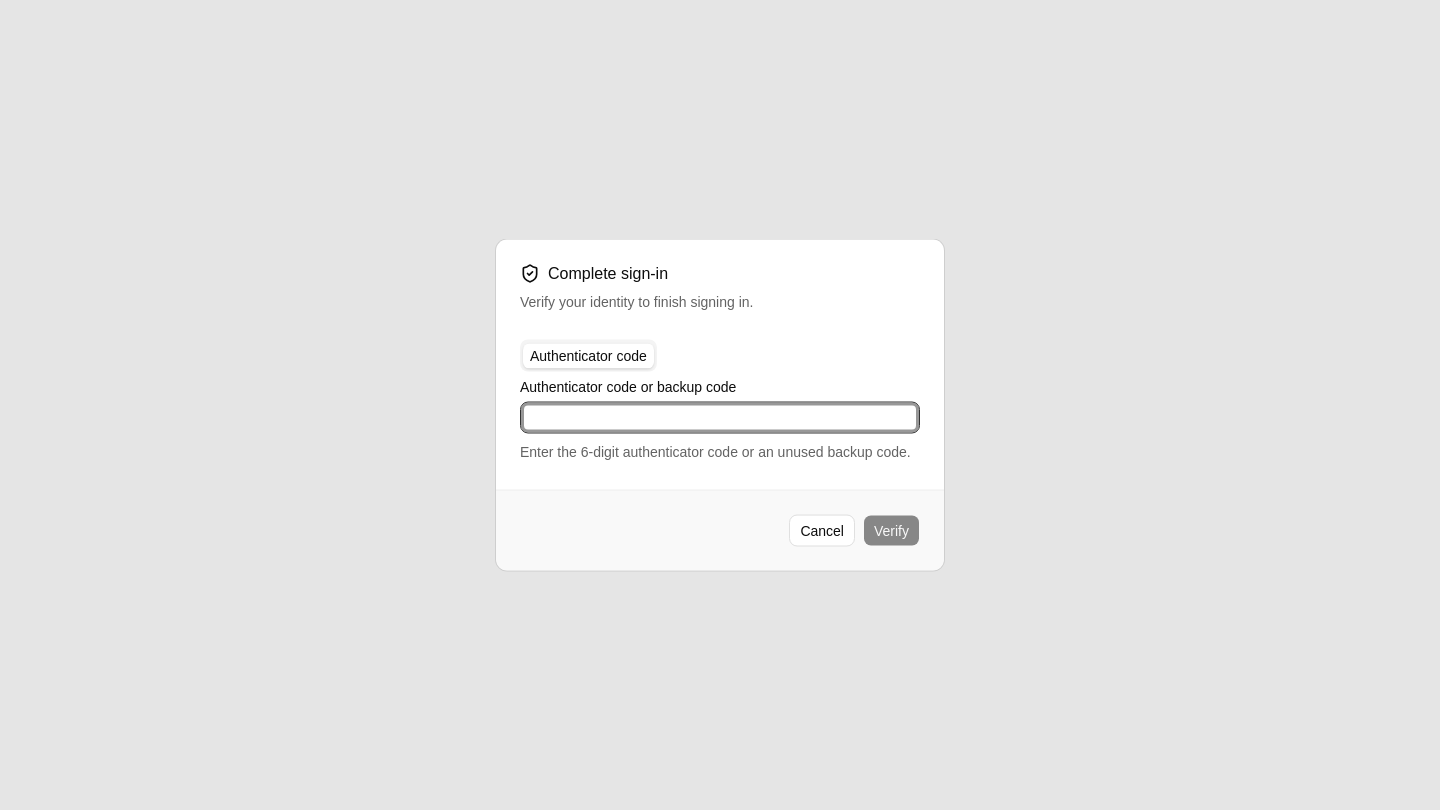
it: rejects submission after the five-minute challenge deadline without sending a request
The width and height of the screenshot is (1440, 810).
Type "123456" into the field labelled "Authenticator code or backup code" at (720, 418), box 520,402 -> 920,434
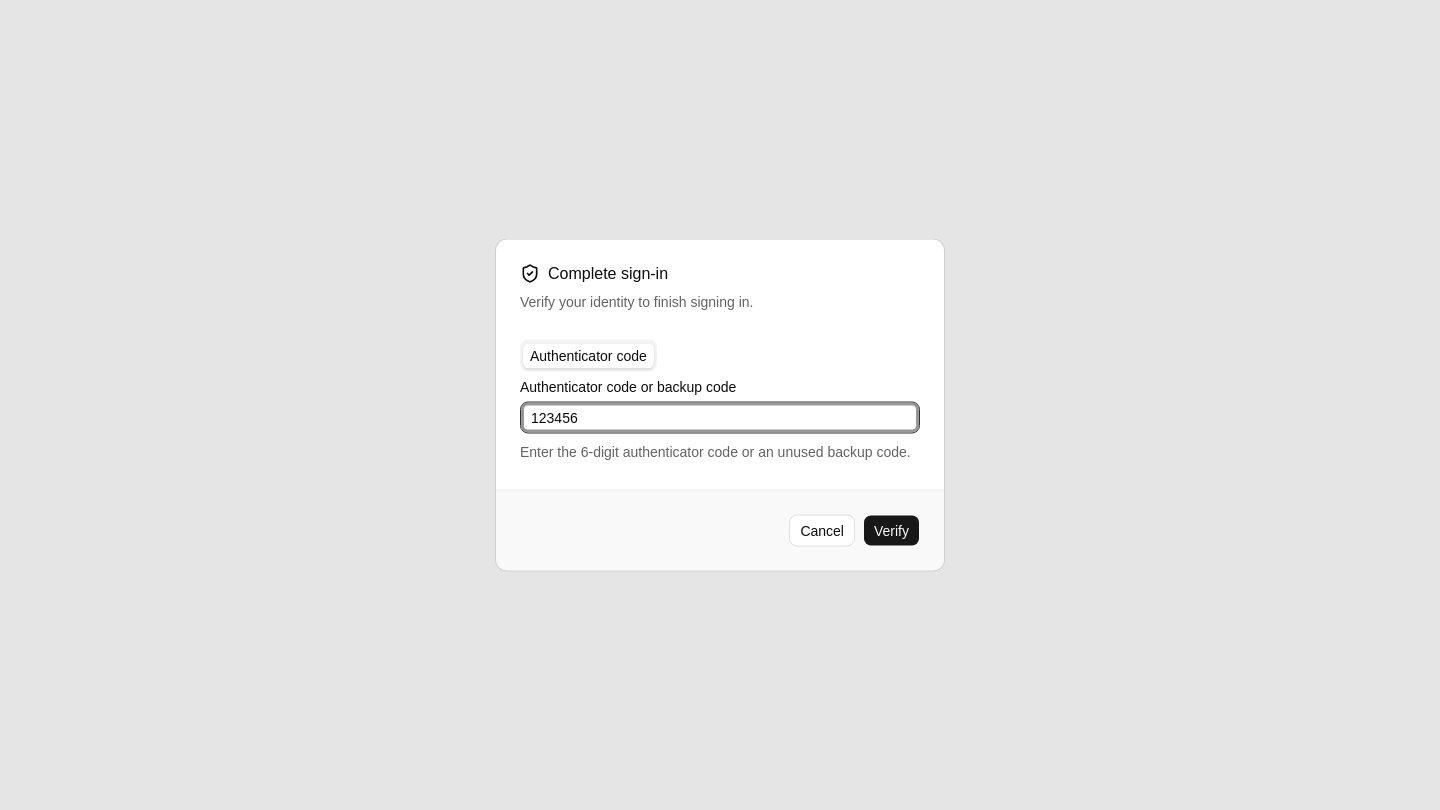
Click the button "Verify" at (892, 530), box 863,514 -> 920,546
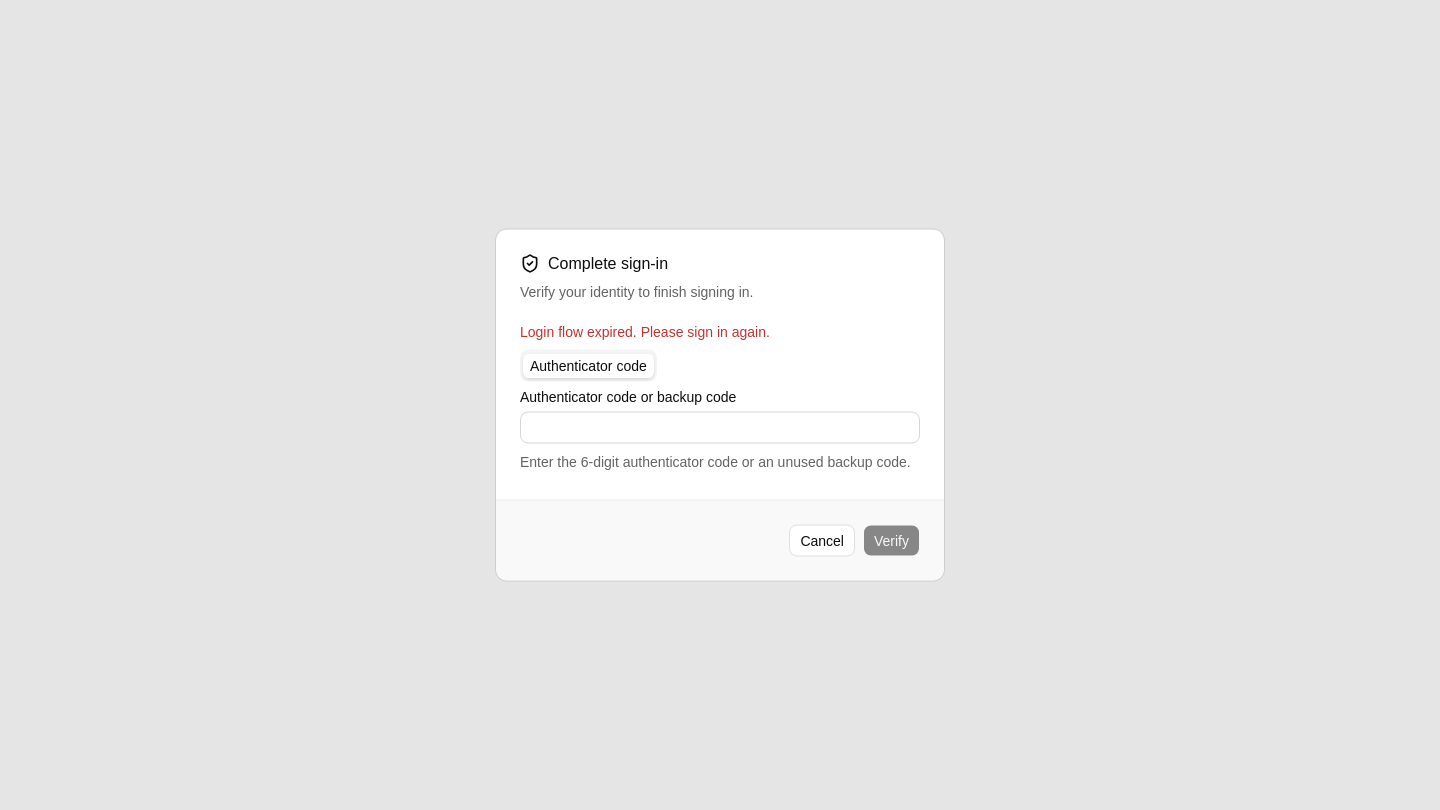
Expected: the message reads "Login flow expired. Please sign in again.", 520,324 -> 770,340
